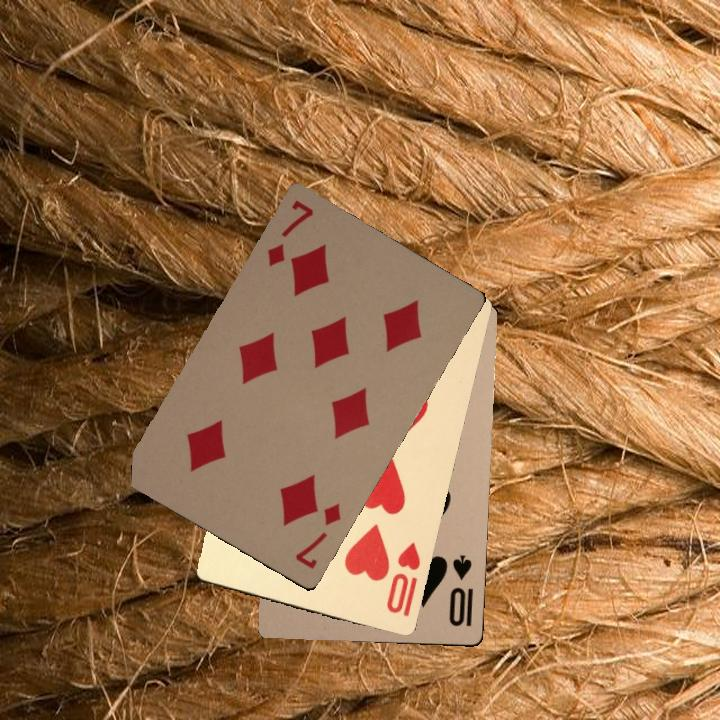10h: (382, 539, 423, 619)
10s: (445, 552, 475, 629)
7d: (263, 196, 317, 270), (291, 499, 344, 572)
